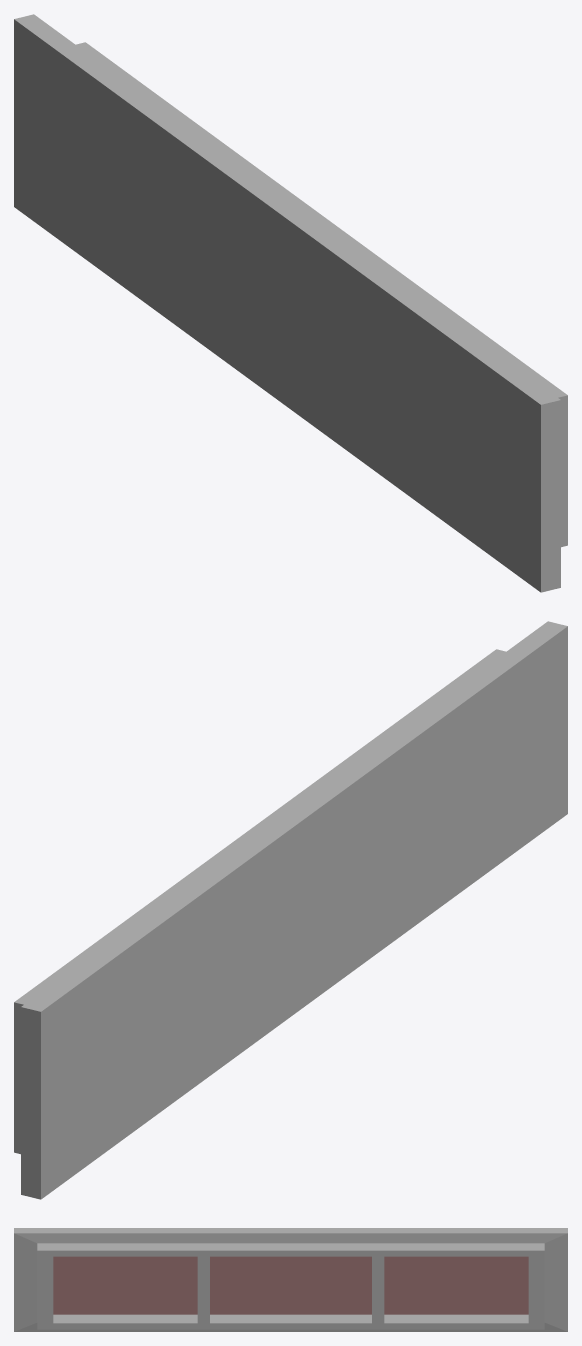
The model's file is O_buildings_Window_Storage1.fbx.
The picture shows the model from 3 angles, top to bottom: view 1: azimuth 30°, elevation 25°; view 2: azimuth 150°, elevation 25°; view 3: azimuth 270°, elevation 25°; orthographic projection. The views are drawn at different scales.
Visible parts, largest first — view 1: pCube7; view 2: pCube7; view 3: pCube7.
Boxes of the visible parts, <box> form: pCube7: <box>14,14,567,592</box>; pCube7: <box>14,621,567,1199</box>; pCube7: <box>14,1228,567,1331</box>.
Bounding box in the file's own units: 0.2522 × 0.9176 × 4.67.
